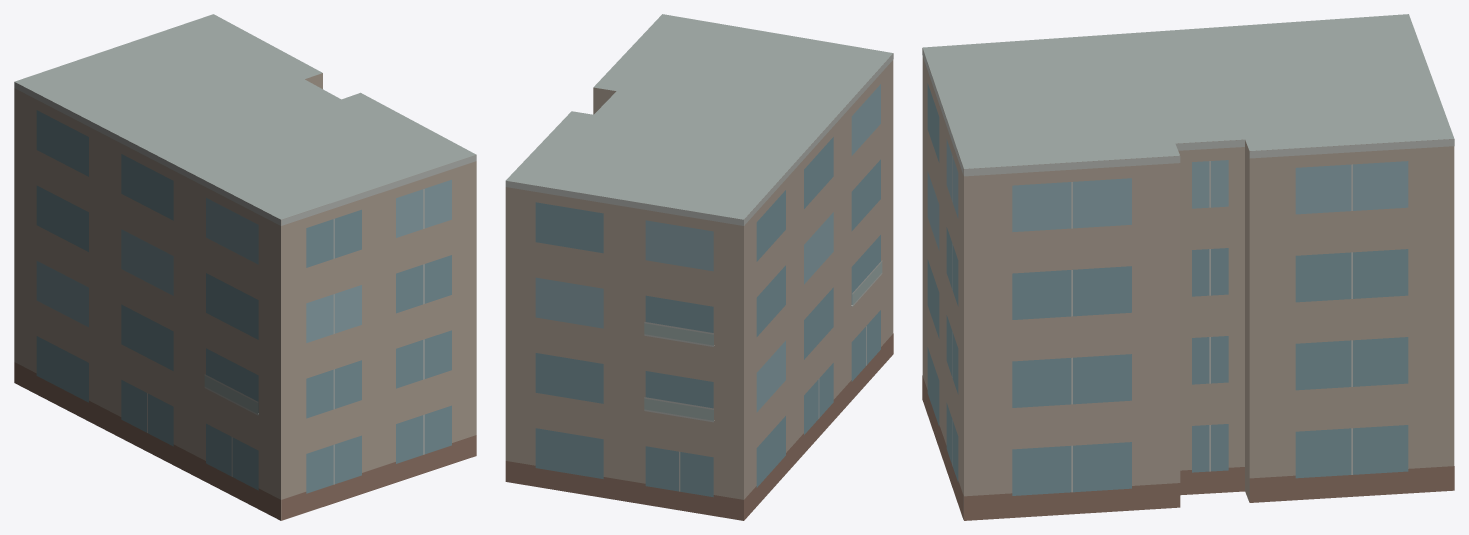
Rendered from survey-upis-32808497.glb.
3 views of the same model, side by side, from view 1: azimuth 30°, elevation 25°; view 2: azimuth 150°, elevation 25°; view 3: azimuth 270°, elevation 25° (orthographic). The views are drawn at different scales.
Visible parts, largest first — view 1: survey-upis-32808497.tmp; view 2: survey-upis-32808497.tmp; view 3: survey-upis-32808497.tmp.
Part boxes in pixels (x1,y1,x2,y2): survey-upis-32808497.tmp: [14, 14, 476, 520]; survey-upis-32808497.tmp: [505, 14, 893, 520]; survey-upis-32808497.tmp: [922, 14, 1454, 520].
Size of the model in its own units: 11.02 by 11.65 by 15.98.
